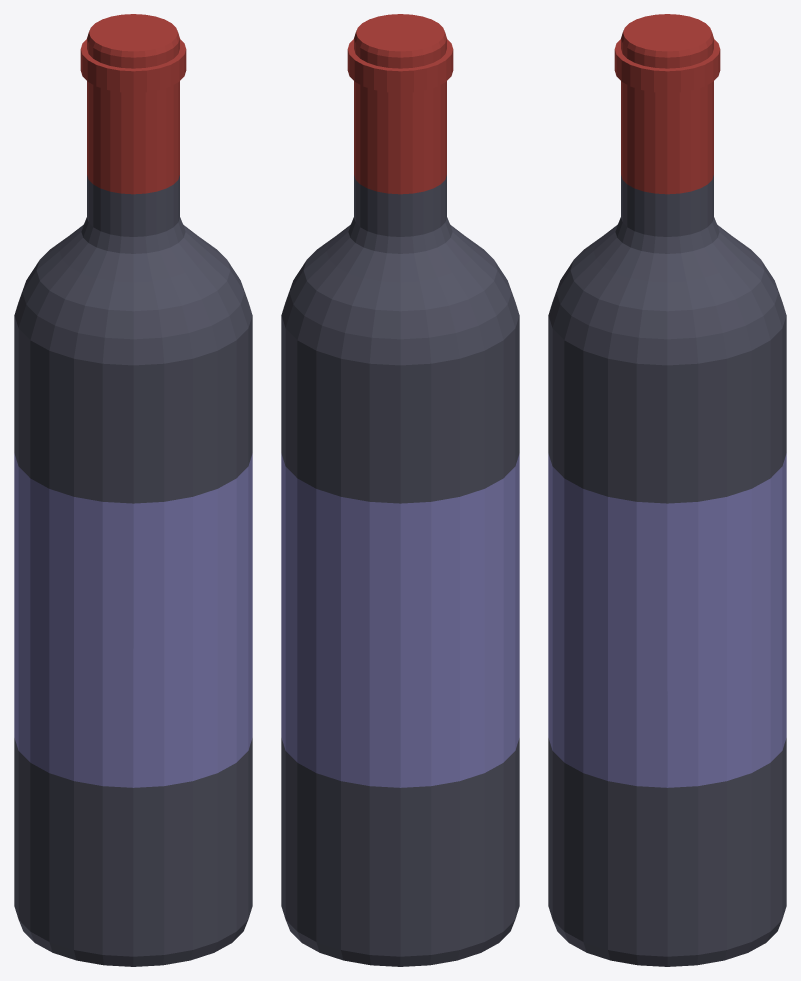
The model's file is Wine_01.fbx.
3 renders of one model, left to right at view 1: azimuth 30°, elevation 25°; view 2: azimuth 150°, elevation 25°; view 3: azimuth 270°, elevation 25°, orthographic.
Parts seen in each view (by area): view 1: Wine_01; view 2: Wine_01; view 3: Wine_01.
Boxes of the visible parts, left/top/right/bottom form: Wine_01: left=14, top=14, right=252, bottom=966; Wine_01: left=281, top=14, right=519, bottom=966; Wine_01: left=548, top=14, right=786, bottom=966.
Size of the model in its own units: 8.91 by 36.56 by 8.91.
